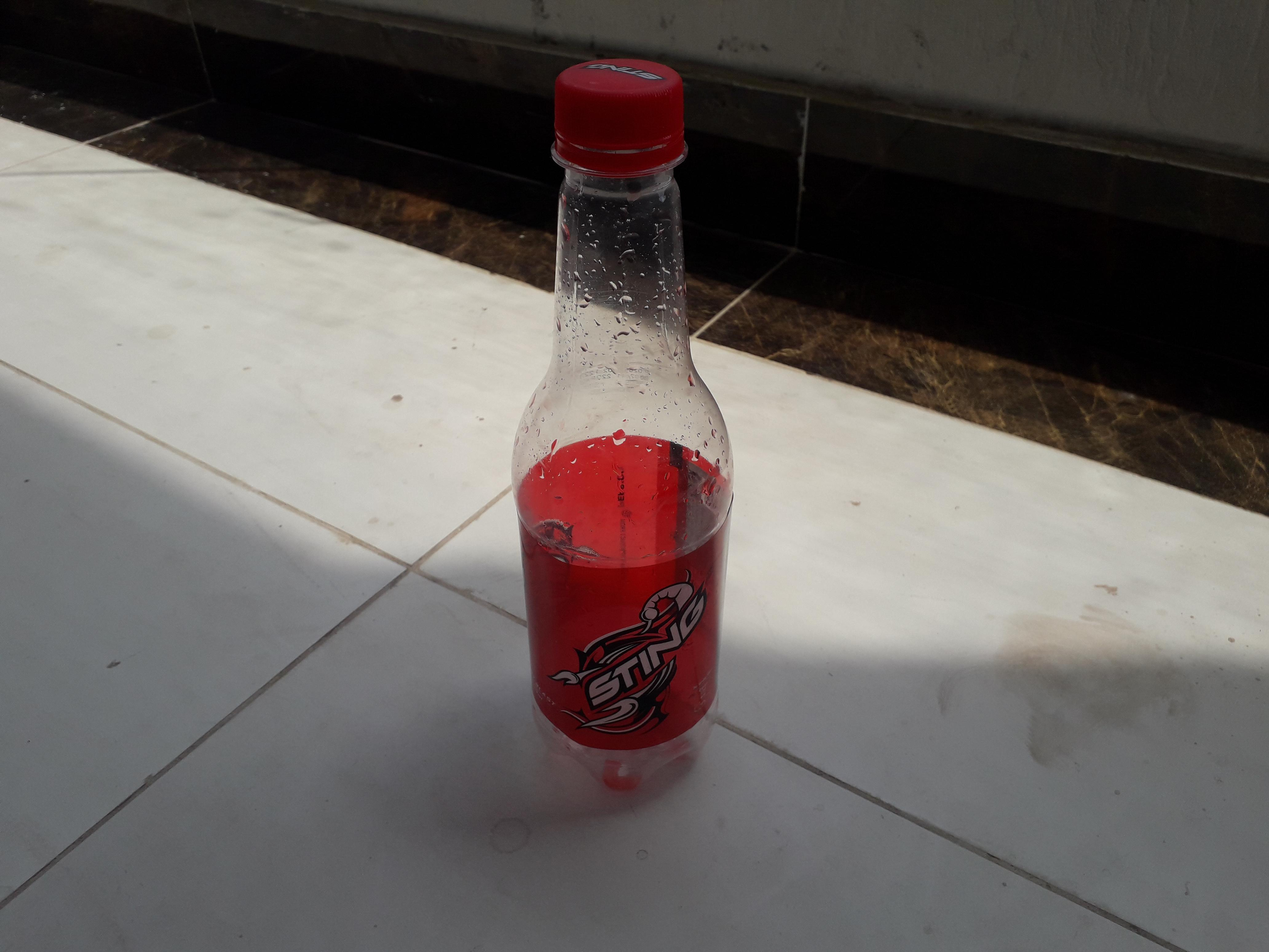bottle-plastic: (508, 56, 737, 797)
